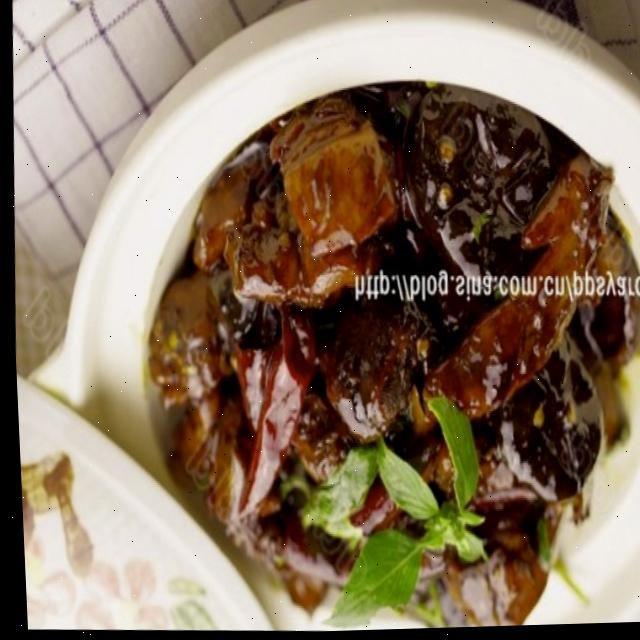鸡肉料理 含炸鸡: (89, 40, 640, 638)
